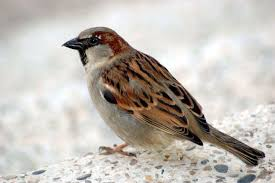hsparrow: (60, 23, 266, 177)
